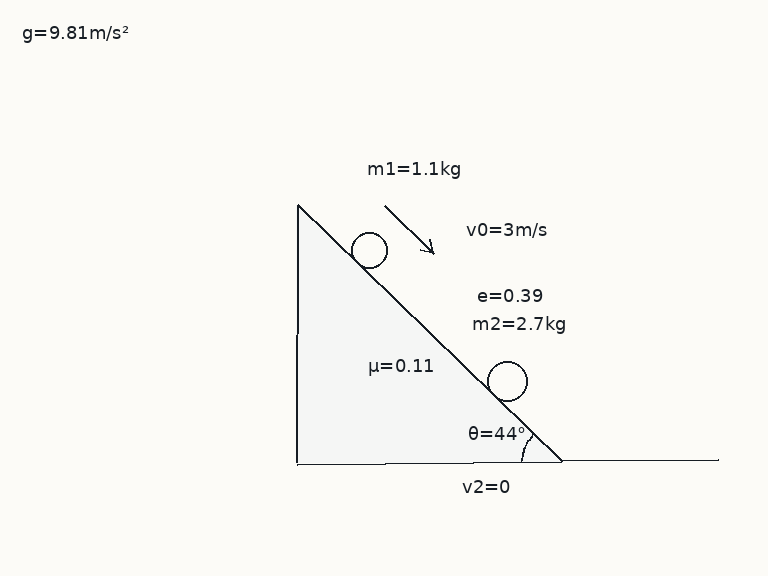ball: (485, 359, 529, 403), (349, 230, 389, 270)
ramp: (295, 204, 564, 464)
